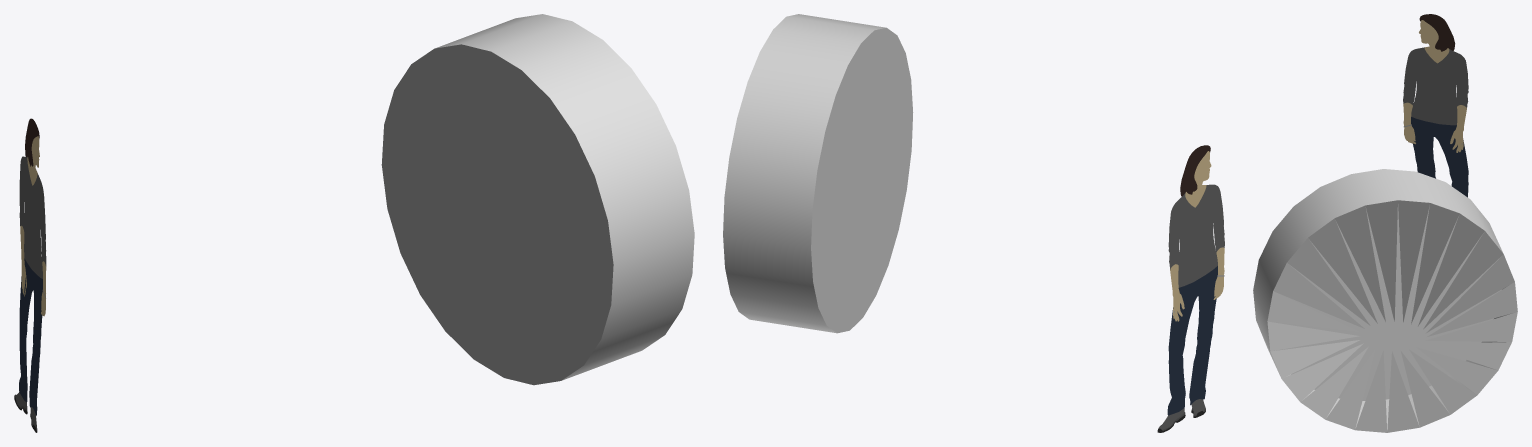
3 renders of one model, left to right at view 1: azimuth 30°, elevation 25°; view 2: azimuth 150°, elevation 25°; view 3: azimuth 270°, elevation 25°, orthographic. The views are drawn at different scales.
Parts seen in each view (by area): view 1: SketchUp, Susan (×2); view 2: SketchUp, Susan (×5); view 3: SketchUp, Susan (×5).
Boxes of the visible parts, box(x1,y1,x2,y2) form: SketchUp: box(381, 14, 694, 385); Susan (×2): box(19, 156, 46, 415); SketchUp: box(723, 14, 913, 333); Susan (×5): box(1167, 145, 1224, 415); SketchUp: box(1253, 169, 1517, 432); Susan (×5): box(1403, 14, 1468, 197).
Size of the model in its own units: 125 by 71.9 by 71.24.
